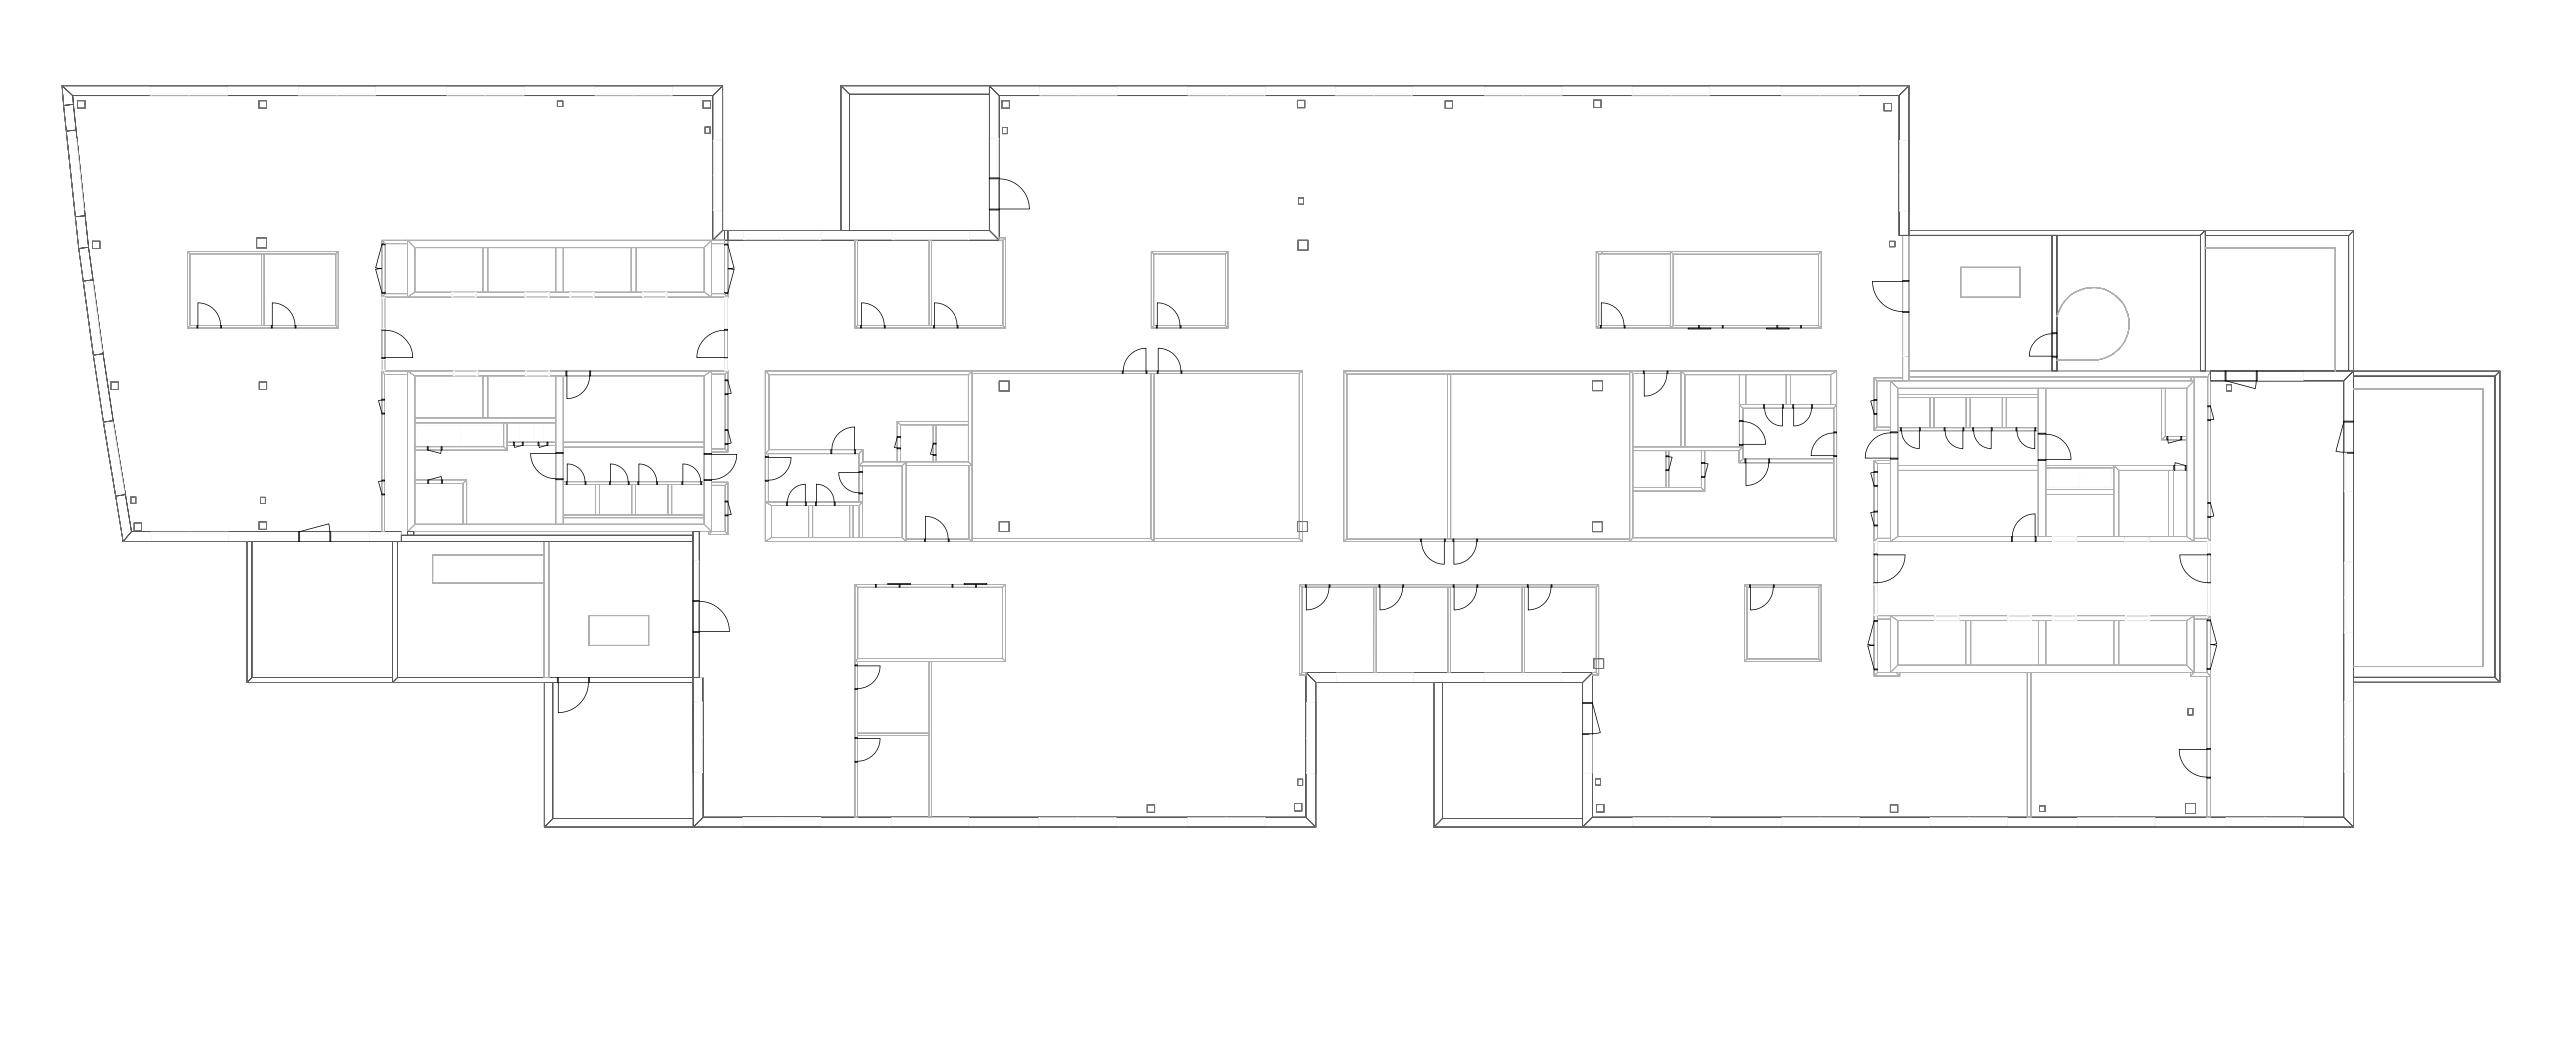room: (2211, 380, 2344, 818), (2354, 388, 2485, 666), (971, 372, 1149, 539), (1451, 372, 1629, 539), (2031, 672, 2209, 816), (384, 295, 725, 369), (1878, 542, 2206, 615), (1154, 374, 1300, 539), (397, 542, 544, 677), (550, 540, 694, 677), (1909, 235, 2052, 372), (2057, 235, 2201, 370), (553, 682, 694, 818), (1443, 682, 1582, 818), (851, 93, 989, 229), (251, 542, 392, 676), (1347, 374, 1448, 537), (2206, 246, 2335, 370), (2046, 388, 2188, 465), (1673, 253, 1819, 325), (859, 588, 1002, 658), (563, 375, 705, 442), (1899, 470, 2038, 537), (1301, 586, 1375, 672), (1525, 586, 1597, 672), (1376, 586, 1448, 671), (1450, 586, 1522, 671), (857, 240, 929, 325), (932, 240, 1002, 325), (857, 734, 929, 816), (1747, 584, 1819, 659), (857, 661, 929, 733), (1598, 253, 1670, 325), (1154, 253, 1224, 326), (191, 253, 261, 325), (264, 255, 336, 325), (1899, 429, 2036, 465), (565, 447, 704, 481), (906, 464, 968, 539), (1685, 375, 1739, 447), (1633, 372, 1680, 446), (2119, 472, 2170, 535), (862, 465, 903, 539), (415, 375, 483, 418), (2046, 495, 2114, 537), (488, 375, 555, 418), (2047, 467, 2114, 490)
